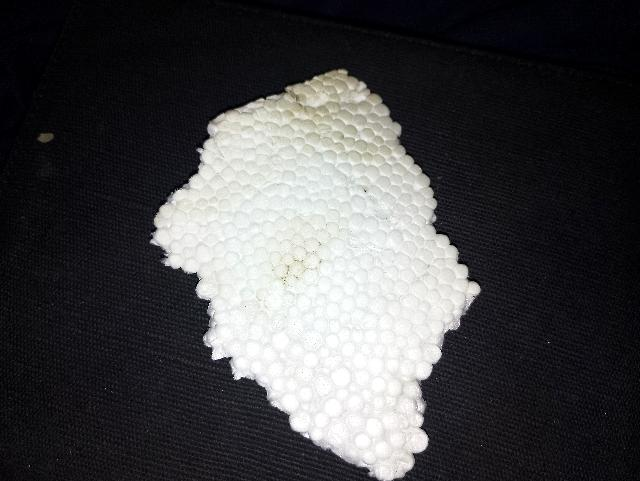cocksheet: (169, 75, 472, 478)
